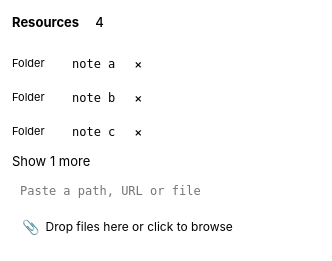
TaskPaths as the one resources list › unfolds the list when a path is added, so the new row is in sight
The width and height of the screenshot is (332, 261).
expect the button "Show 1 more" is shown: met, box [12,151,90,172]
Type "https://example.com/spec" into the field labelled "Paste a path, URL or file" at coordinates (142, 191), box [12,178,272,204]
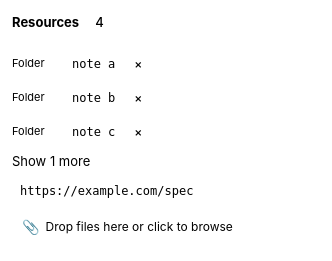
Press Enter in the field named "Paste a path, URL or file", box [12,178,272,204]
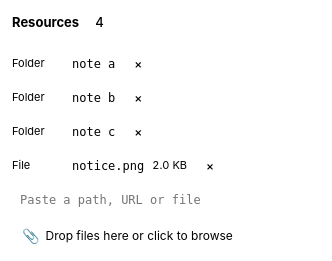
expect the button "Show 1 more" is gone: met
expect the button "notice.png" is shown: met, box [72,159,144,173]
